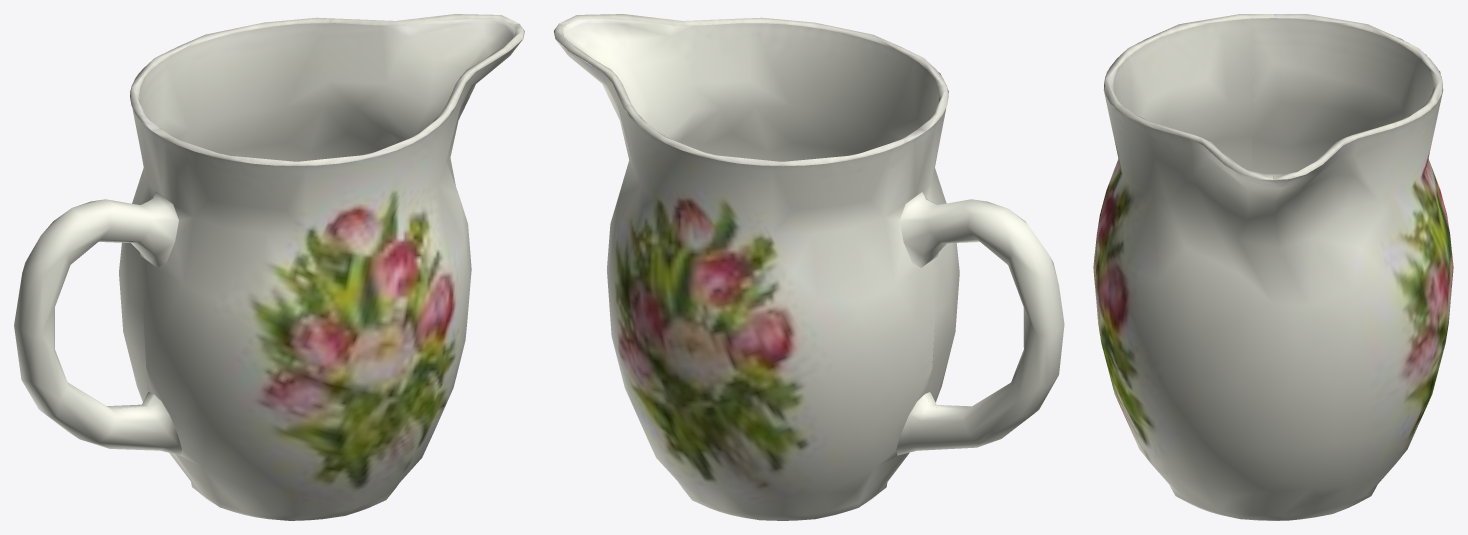
The model's file is jug_01.glb.
3 views of the same model, side by side, from view 1: azimuth 30°, elevation 25°; view 2: azimuth 150°, elevation 25°; view 3: azimuth 270°, elevation 25° (orthographic). The views are drawn at different scales.
Parts seen in each view (by area): view 1: jug_01; view 2: jug_01; view 3: jug_01.
Part boxes in pixels (<box>): jug_01: <box>14,14,524,520</box>; jug_01: <box>553,14,1064,520</box>; jug_01: <box>1093,14,1453,520</box>.
Bounding box in the file's own units: 0.276 × 0.2112 × 0.1679.
Materials: 1 (1 with a texture image).
